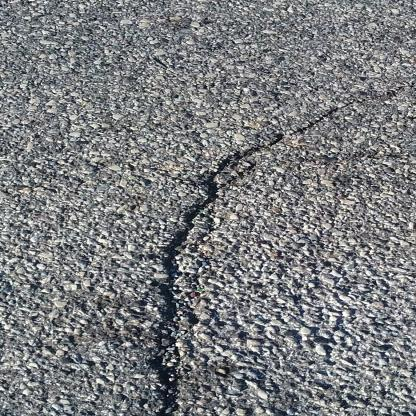Cracks: (142, 149, 228, 416)
